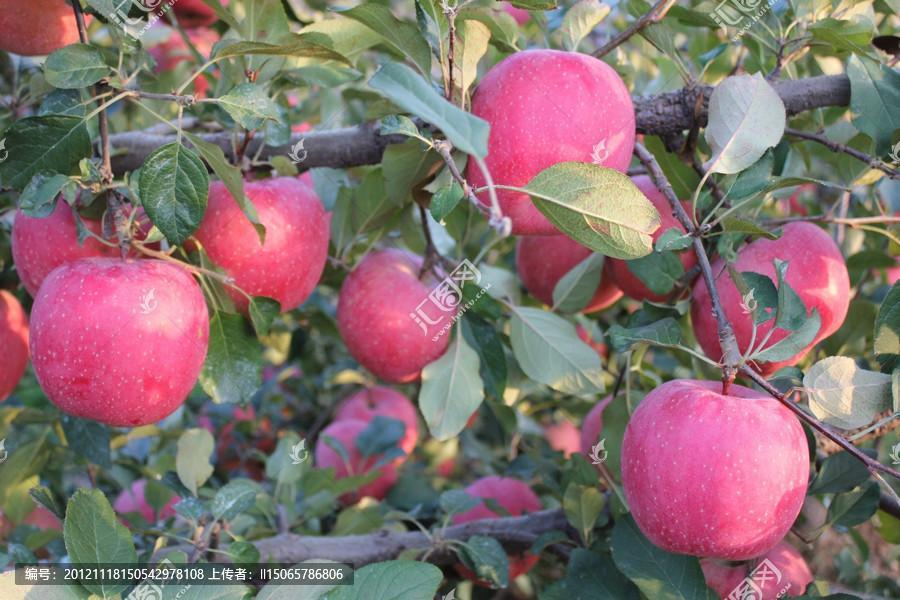apple: (618, 380, 807, 558), (24, 260, 206, 425), (469, 47, 632, 227), (689, 217, 852, 381), (183, 173, 327, 310), (336, 248, 457, 384)
